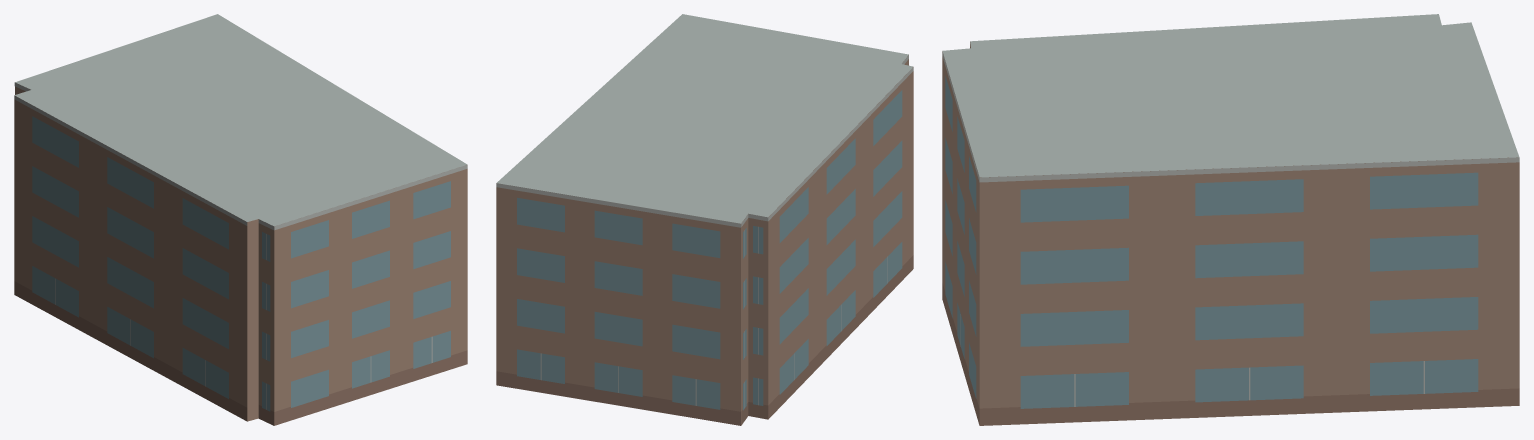
File: survey-upis-32532712.glb
3 views of the same model, side by side, from view 1: azimuth 30°, elevation 25°; view 2: azimuth 150°, elevation 25°; view 3: azimuth 270°, elevation 25° (orthographic). The views are drawn at different scales.
Parts seen in each view (by area): view 1: survey-upis-32532712.tmp; view 2: survey-upis-32532712.tmp; view 3: survey-upis-32532712.tmp.
Boxes of the visible parts, bbox=[...] form: survey-upis-32532712.tmp: bbox=[14, 14, 467, 425]; survey-upis-32532712.tmp: bbox=[496, 14, 913, 425]; survey-upis-32532712.tmp: bbox=[942, 14, 1519, 425].
Size of the model in its own units: 17.07 by 12.09 by 25.47.
